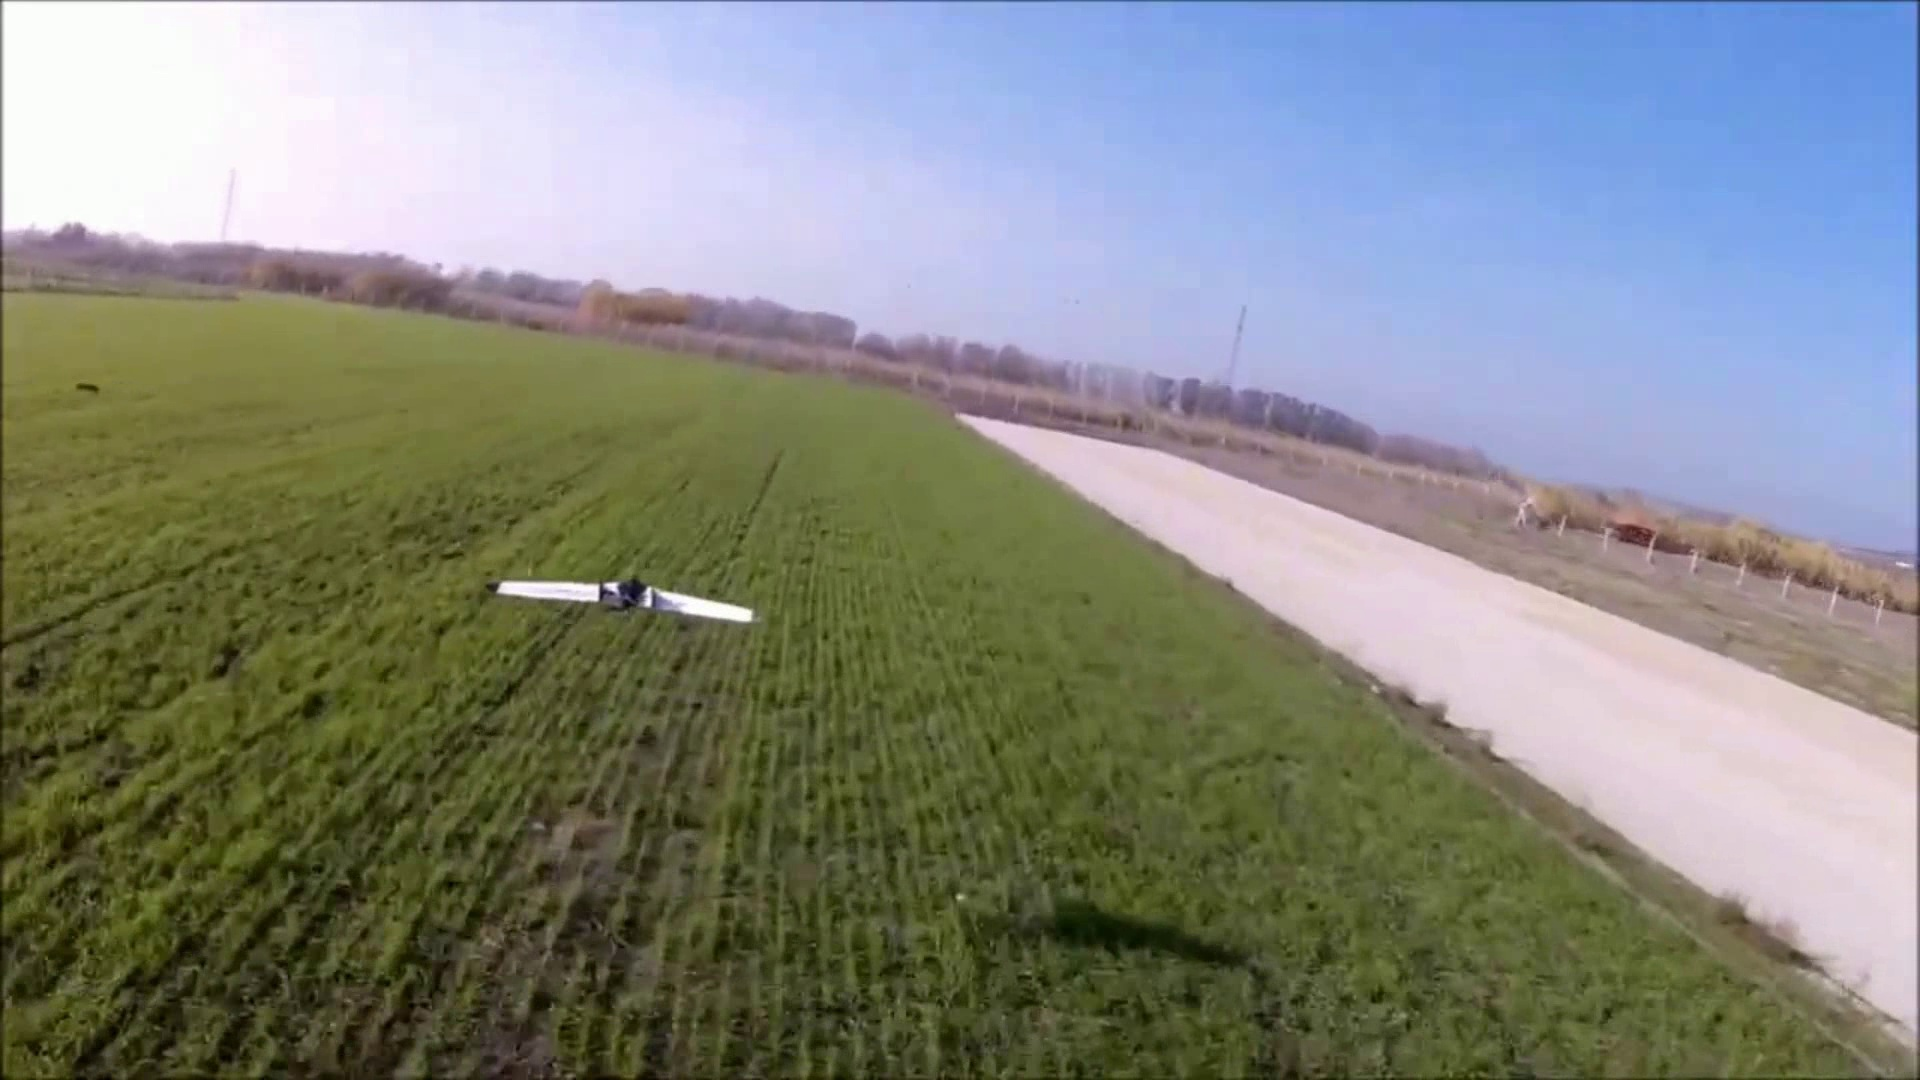airplane: (485, 576, 753, 625)
